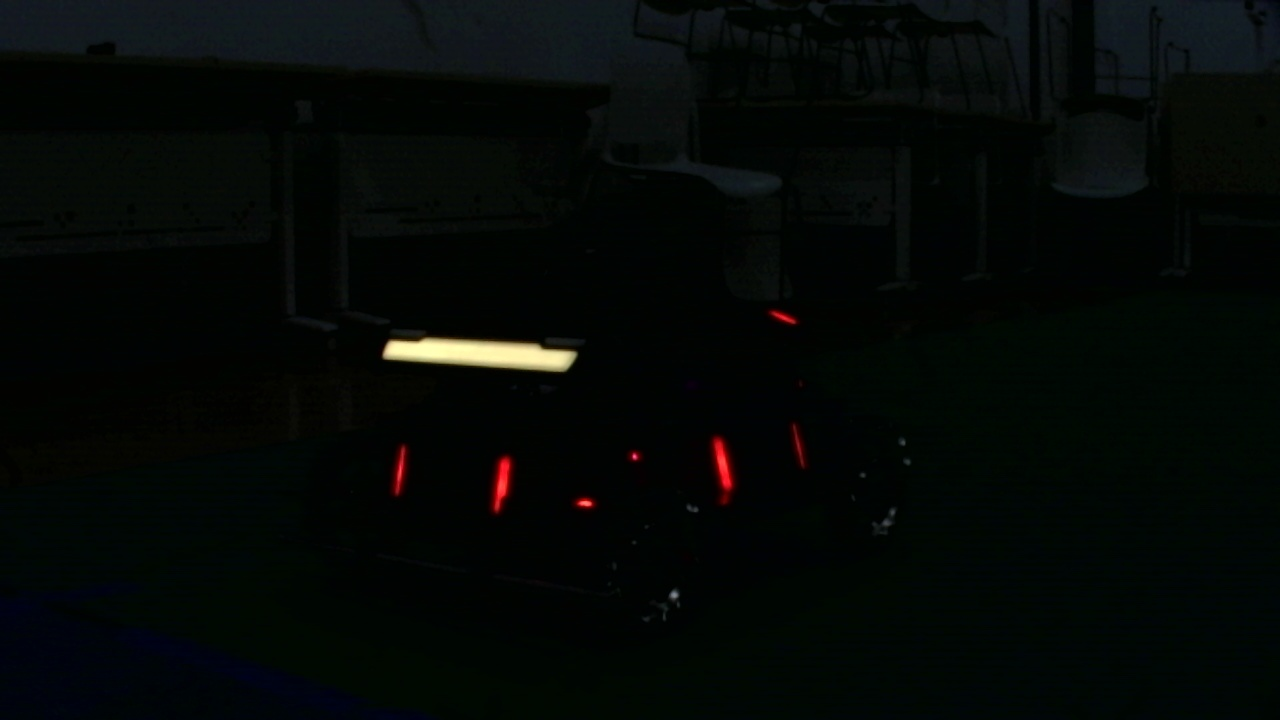lamp: (490, 450, 513, 510), (389, 437, 410, 501), (711, 433, 732, 491)
notpair1: (492, 433, 733, 526)
pair1: (388, 452, 515, 510)
